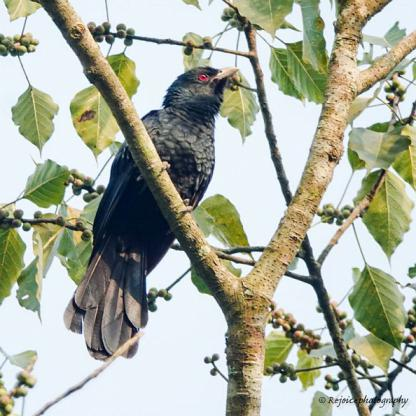Burung: (63, 66, 240, 362)
